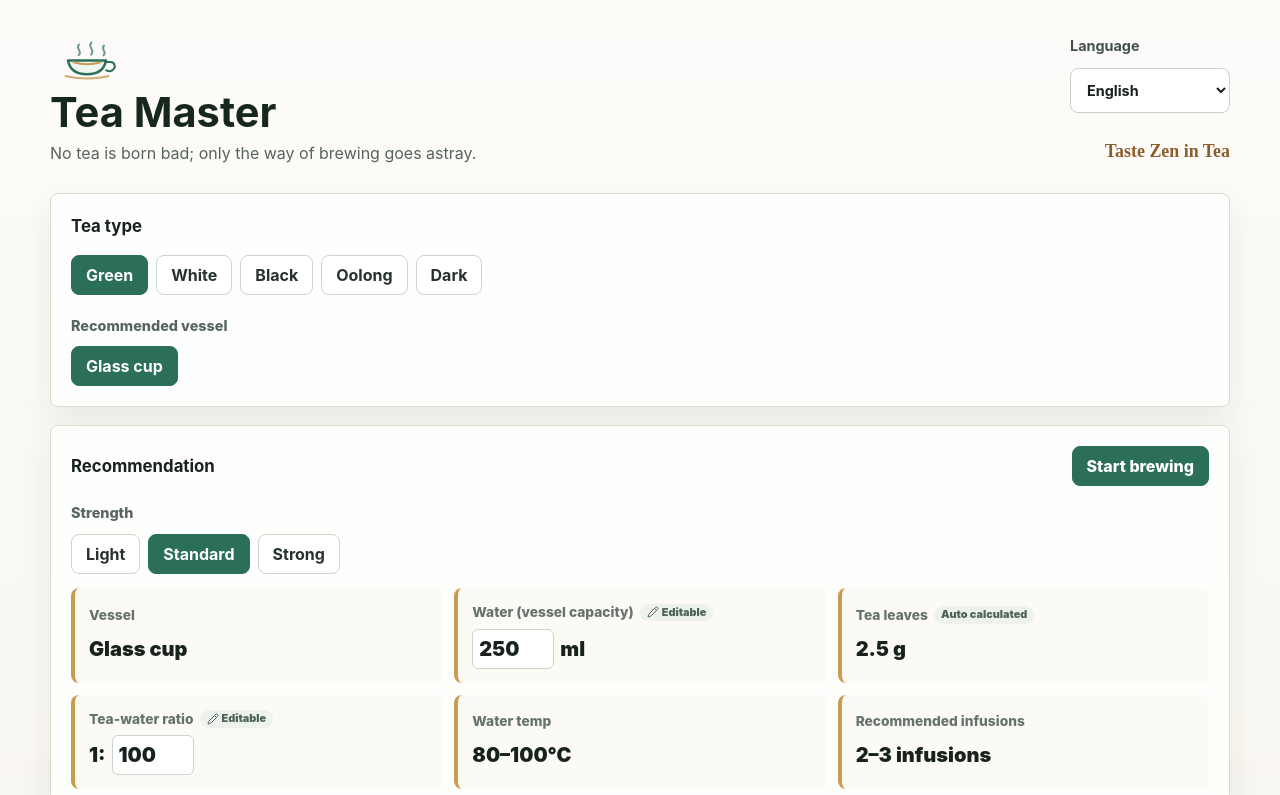
Test: Tea Master app › uses the requested German notification label in the timer
Select "Deutsch" in the dropdown labelled "Language" at (1150, 91), box [1070, 68, 1230, 113]
(page scrolled)
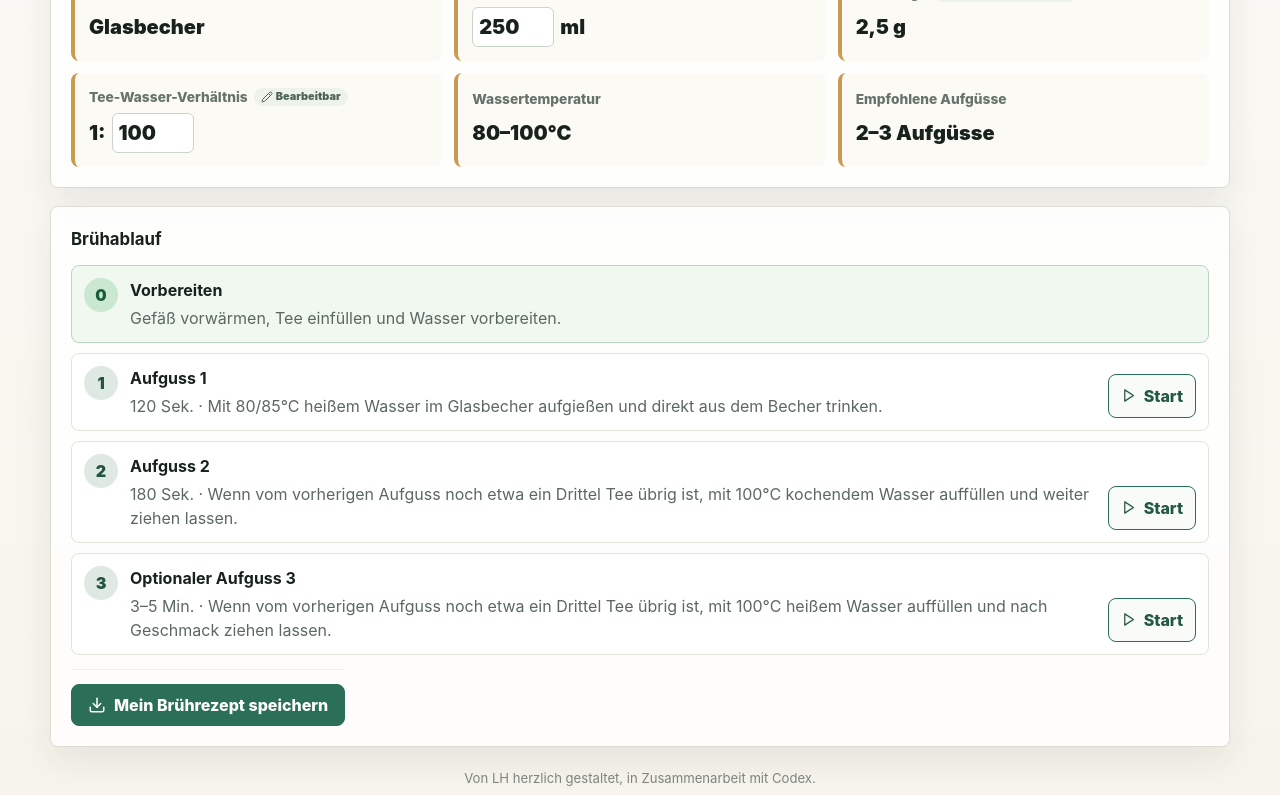
Result: the list item "Aufguss 1" is shown at [130, 368, 207, 388]
Click the button "Start" in the row of "Aufguss 1".
click(1152, 396)  # box [1108, 374, 1196, 418]
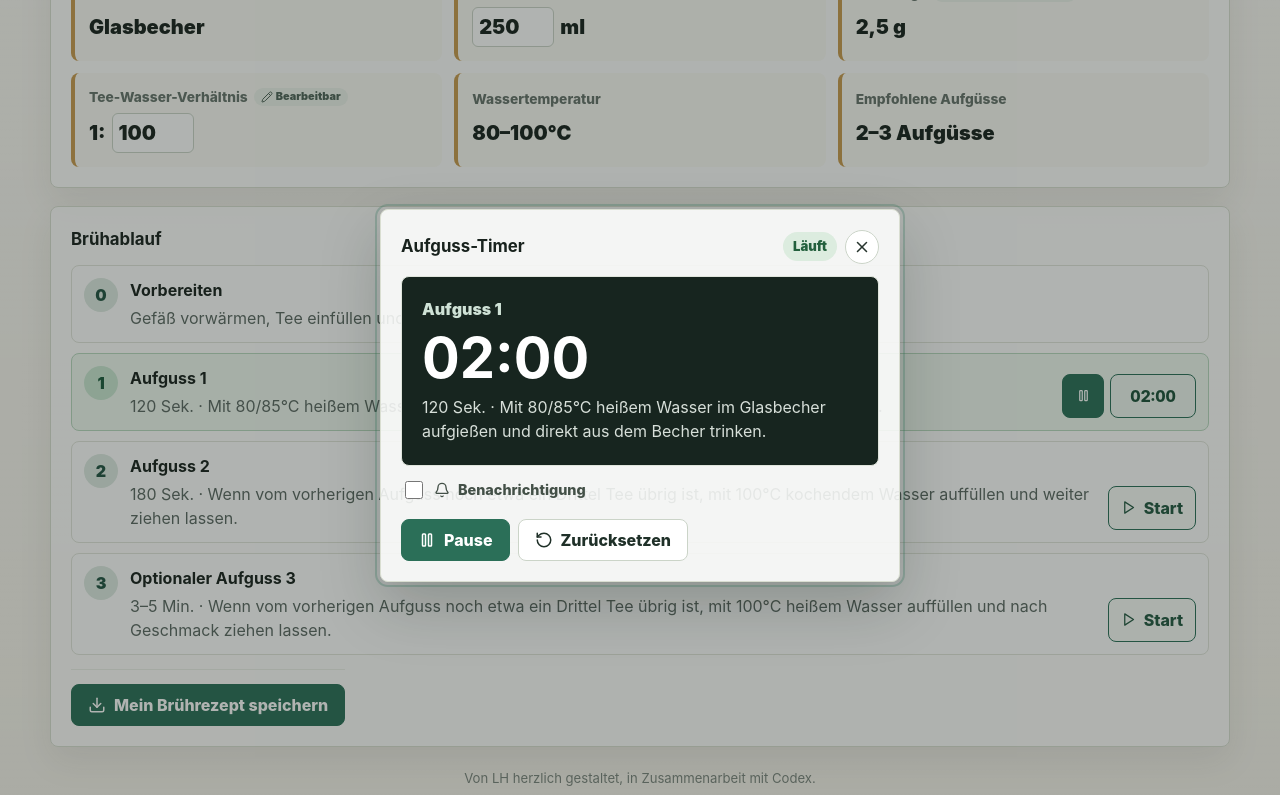
Result: the checkbox labelled "Benachrichtigung" is not checked at [405, 480, 423, 498]
